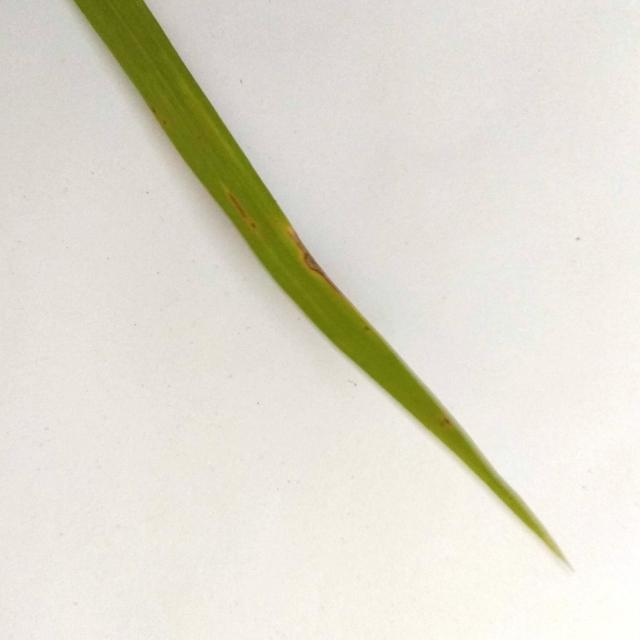Leaf blast: (6, 1, 640, 590)
